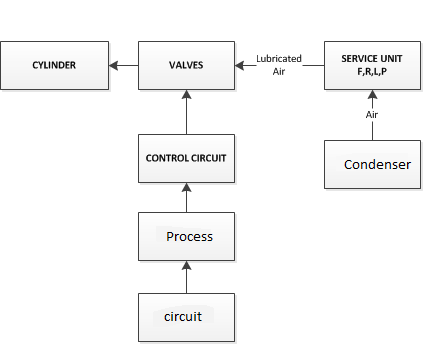arrow: (234, 59, 326, 72), (366, 89, 382, 142), (180, 88, 193, 135), (180, 259, 193, 294), (180, 181, 193, 213), (108, 60, 139, 71)
process: (1, 39, 111, 91), (322, 138, 423, 191), (136, 291, 237, 344), (135, 132, 237, 184), (137, 39, 238, 91), (322, 39, 422, 91), (137, 211, 237, 263)
text: (340, 53, 404, 77), (255, 53, 305, 77), (144, 152, 228, 164), (342, 157, 413, 171), (166, 229, 215, 242), (31, 59, 77, 70), (168, 58, 204, 71), (163, 311, 204, 322), (364, 109, 380, 119)
